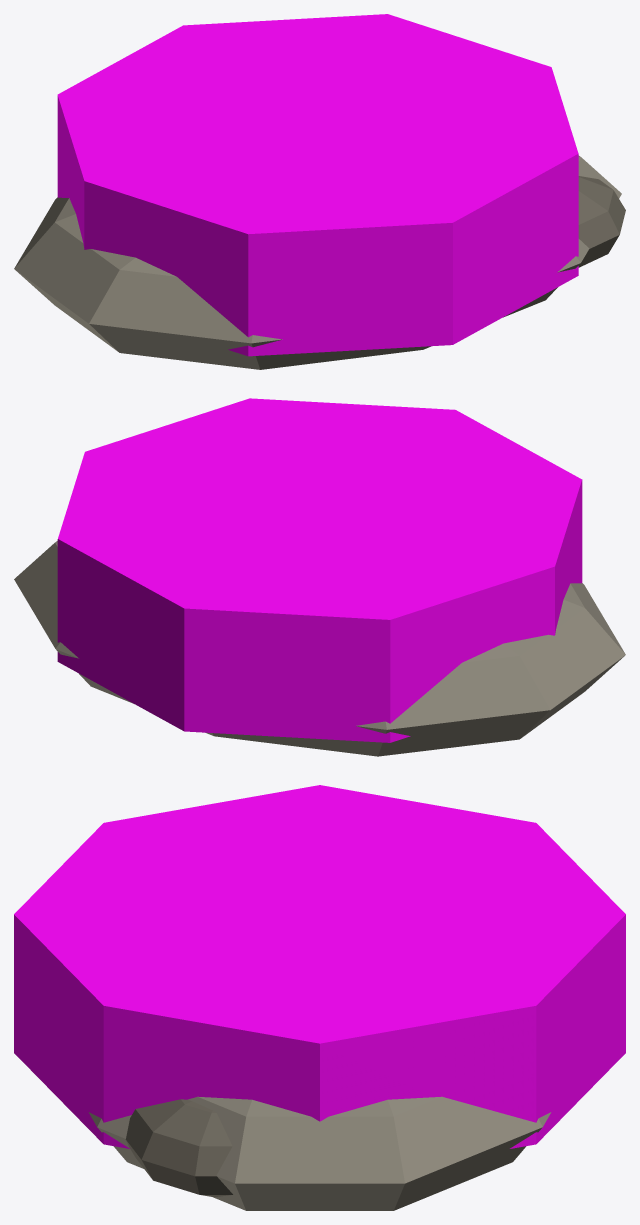
The model's file is shore_rock.glb.
3 renders of one model, top to bottom at view 1: azimuth 30°, elevation 25°; view 2: azimuth 150°, elevation 25°; view 3: azimuth 270°, elevation 25°, orthographic. The views are drawn at different scales.
Parts seen in each view (by area): view 1: Col_main, Slab, Pebble; view 2: Col_main, Slab; view 3: Col_main, Slab, Pebble.
Part boxes in pixels (bbox=[...]): Col_main: bbox=[57, 14, 578, 356]; Slab: bbox=[14, 155, 621, 369]; Pebble: bbox=[578, 176, 625, 267]; Col_main: bbox=[57, 398, 582, 742]; Slab: bbox=[14, 541, 625, 756]; Col_main: bbox=[14, 785, 625, 1148]; Slab: bbox=[88, 1096, 551, 1210]; Pebble: bbox=[125, 1099, 232, 1196].
Bounding box in the file's own units: 2.28 × 0.7788 × 2.
